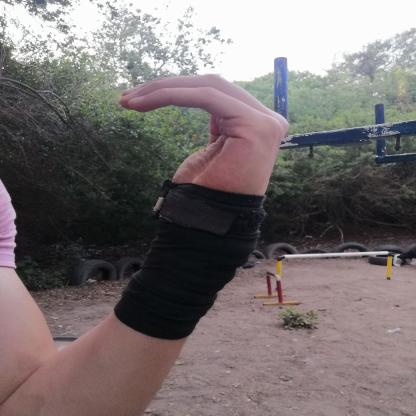HAA: (104, 64, 308, 236)
